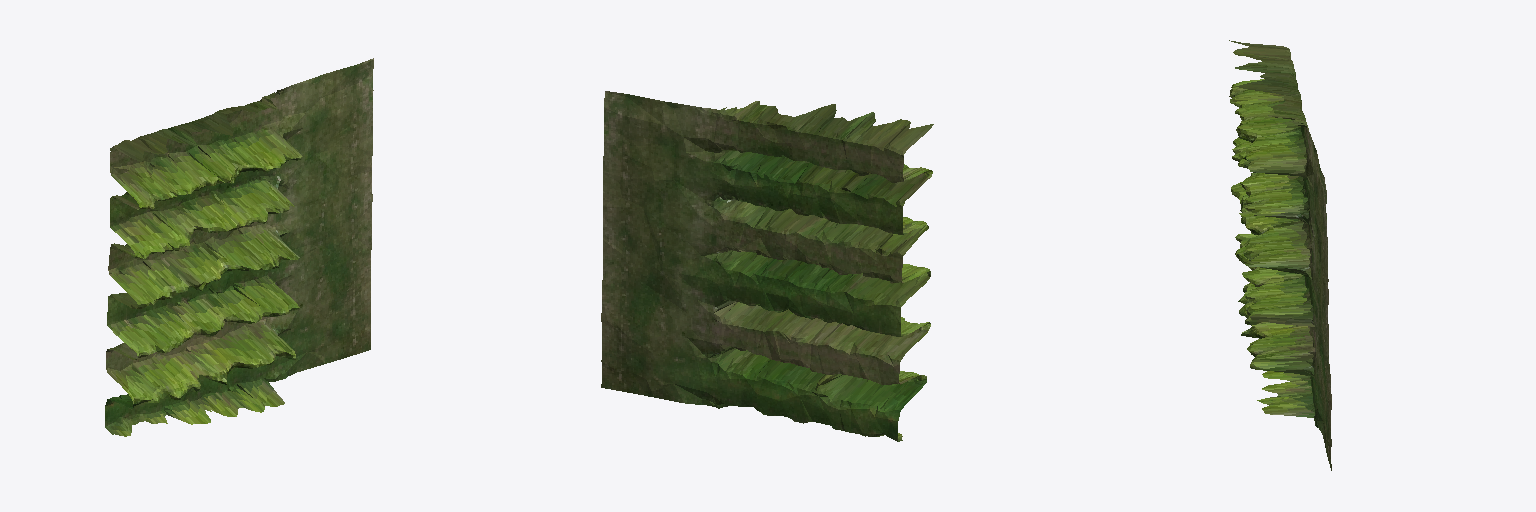
The picture shows the model from 3 angles: view 1: azimuth 30°, elevation 25°; view 2: azimuth 150°, elevation 25°; view 3: azimuth 270°, elevation 25°; orthographic projection.
Parts seen in each view (by area): view 1: grp1; view 2: grp1; view 3: grp1.
Boxes of the visible parts, <box> form: grp1: <box>105,58,373,436</box>; grp1: <box>601,91,933,441</box>; grp1: <box>1229,40,1331,470</box>.
Size of the model in its own units: 10 by 10 by 3.19.
1 materials, 1 textured.